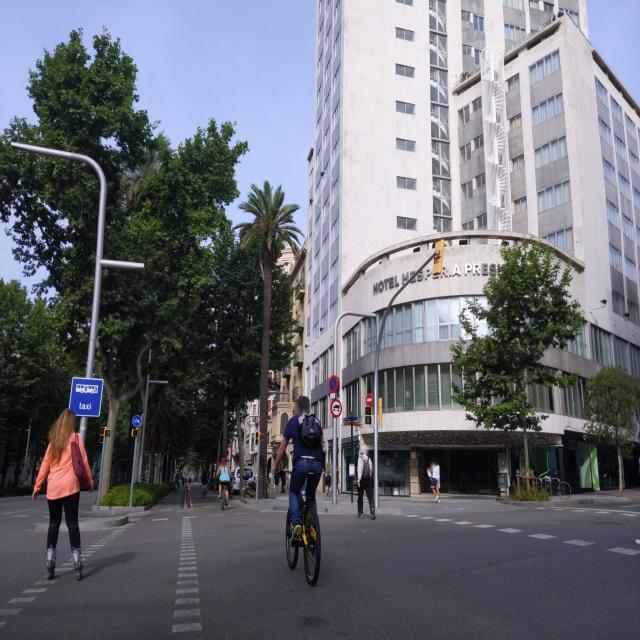bike: (284, 473, 323, 588)
car: (533, 470, 572, 497)
